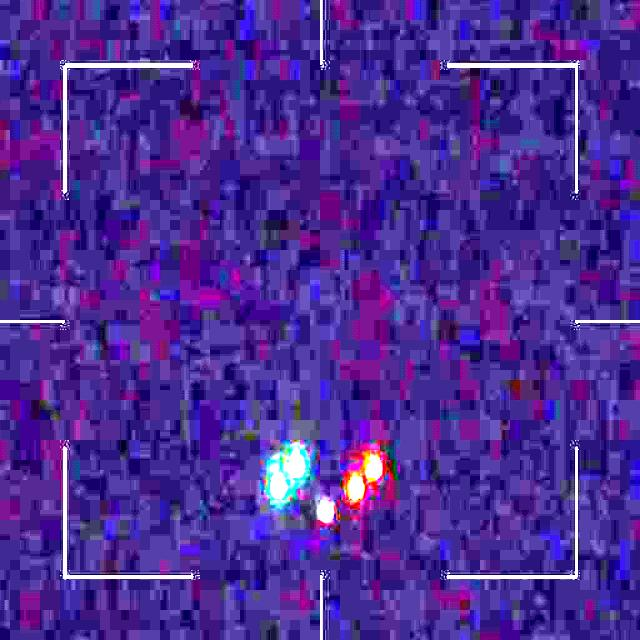bird: (266, 441, 381, 525)
